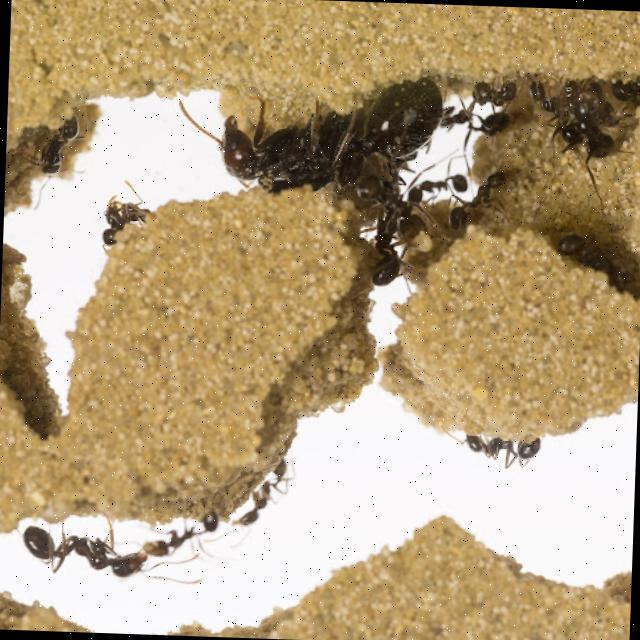Minor: (218, 450, 294, 548), (449, 429, 538, 470)
Queen: (171, 70, 446, 199)
Soldier: (19, 517, 200, 585)
